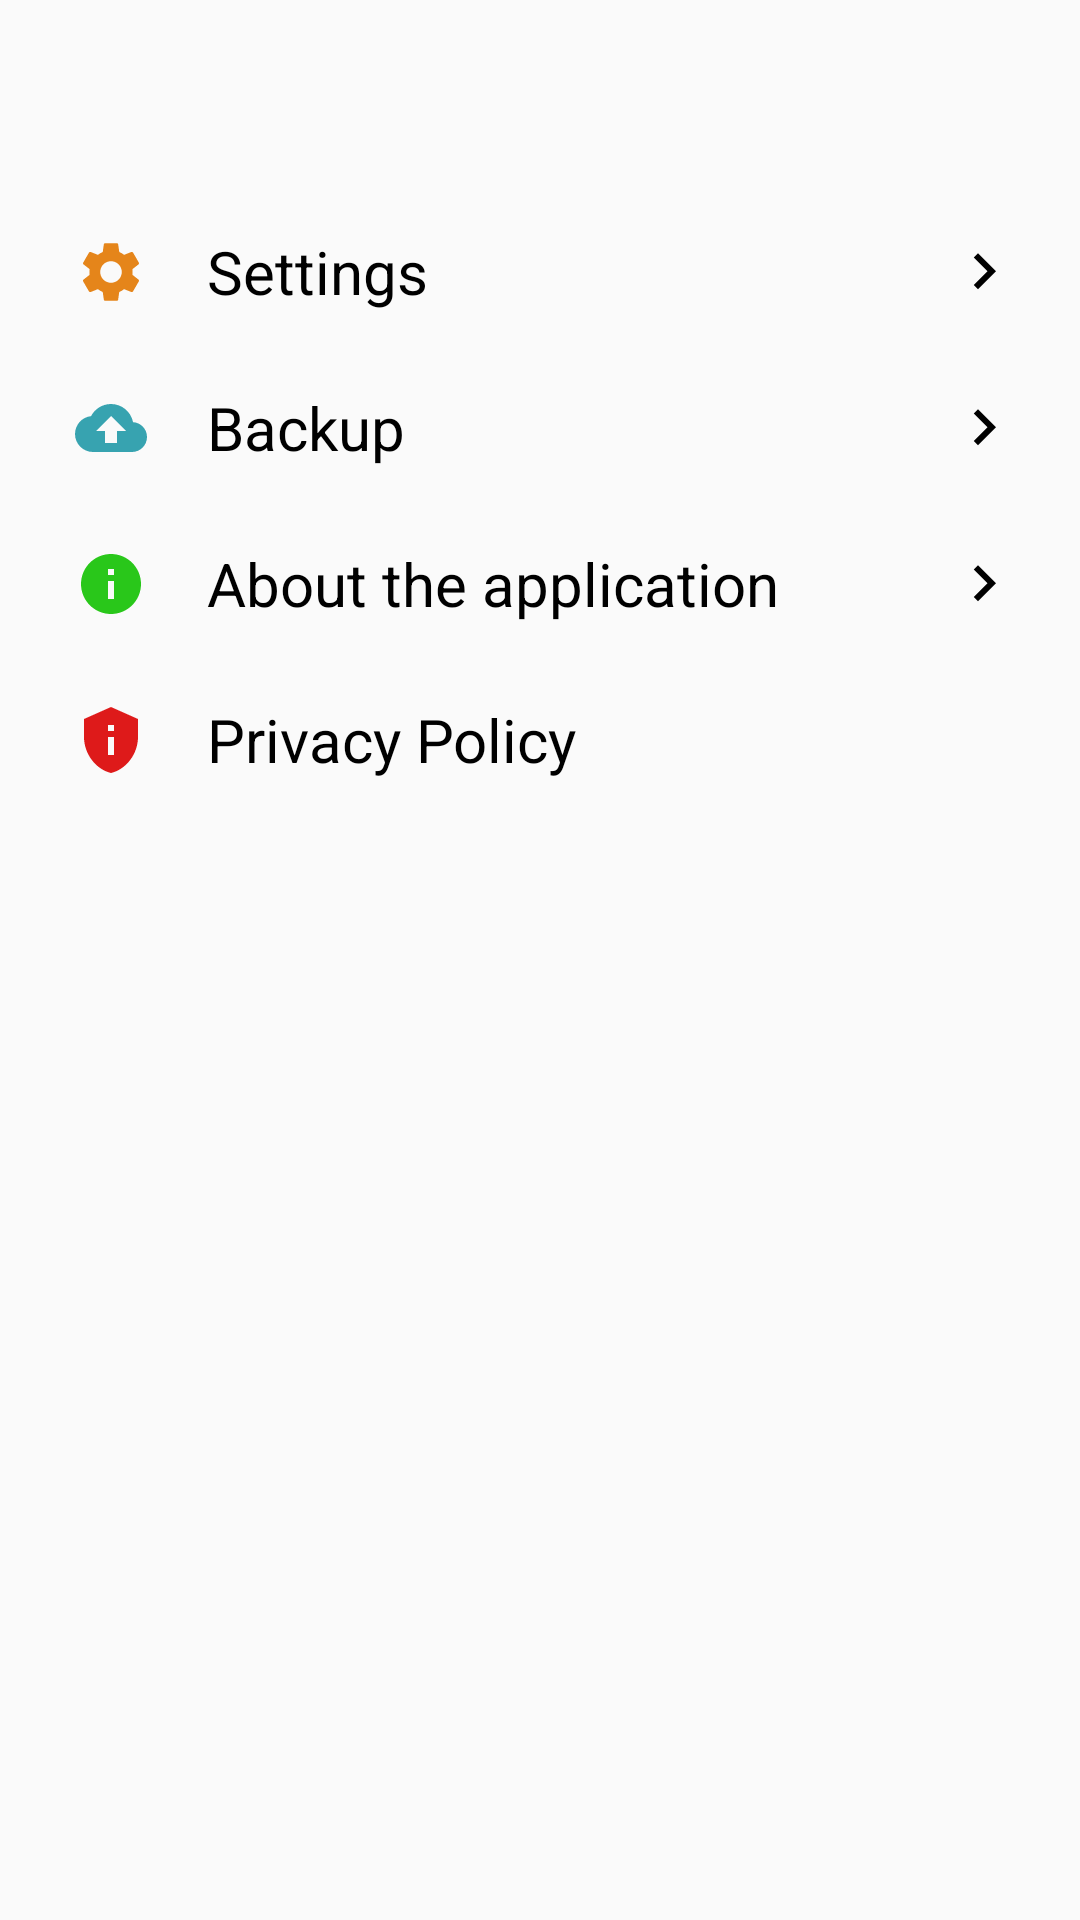

Named icons in this screenshot (1080×1920) and their centers, (x=x, y=y):
info: (x=111, y=584)
keyboard arrow right: (x=985, y=271), (x=985, y=427), (x=985, y=583)
privacy tip: (x=111, y=740)
